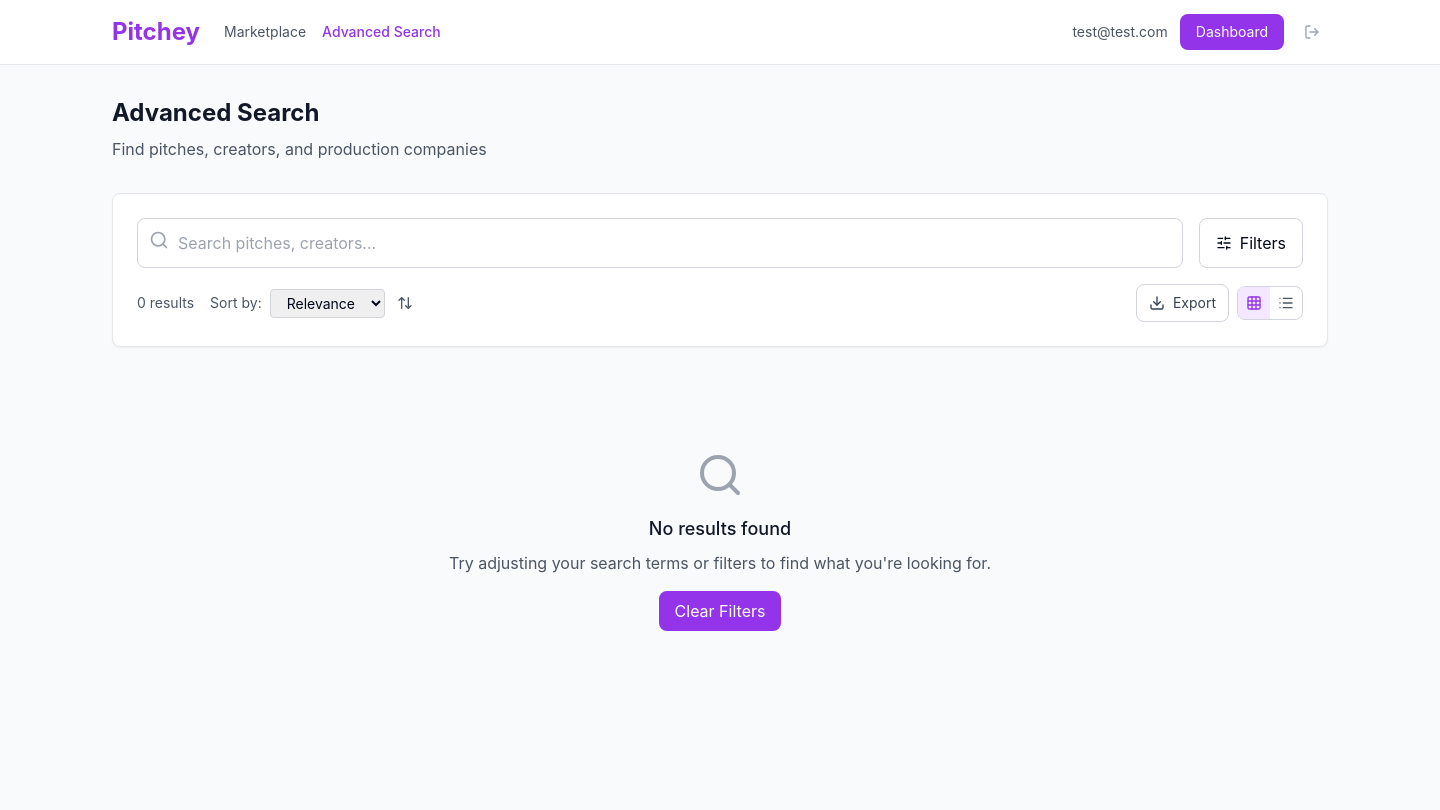
AdvancedSearch › Filters Sidebar › renders Format filter checkboxes
This screenshot has width=1440, height=810.
Click the button "Filters": (1251, 243) left=1199, top=218, right=1303, bottom=268
(page scrolled)
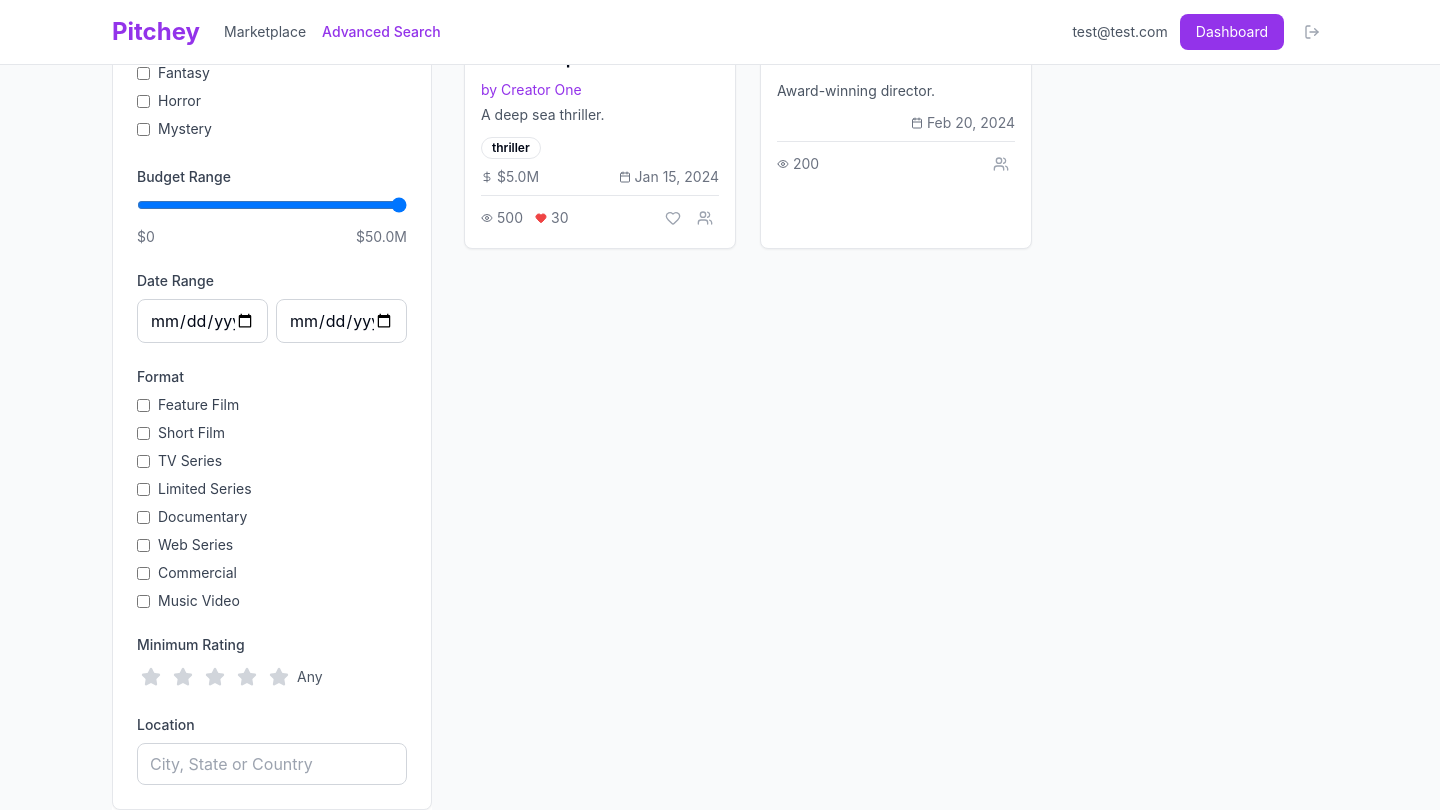
Expected: the text "Format" is shown, left=137, top=368, right=184, bottom=385
Expected: the text "Feature Film" is shown, left=158, top=395, right=239, bottom=415
